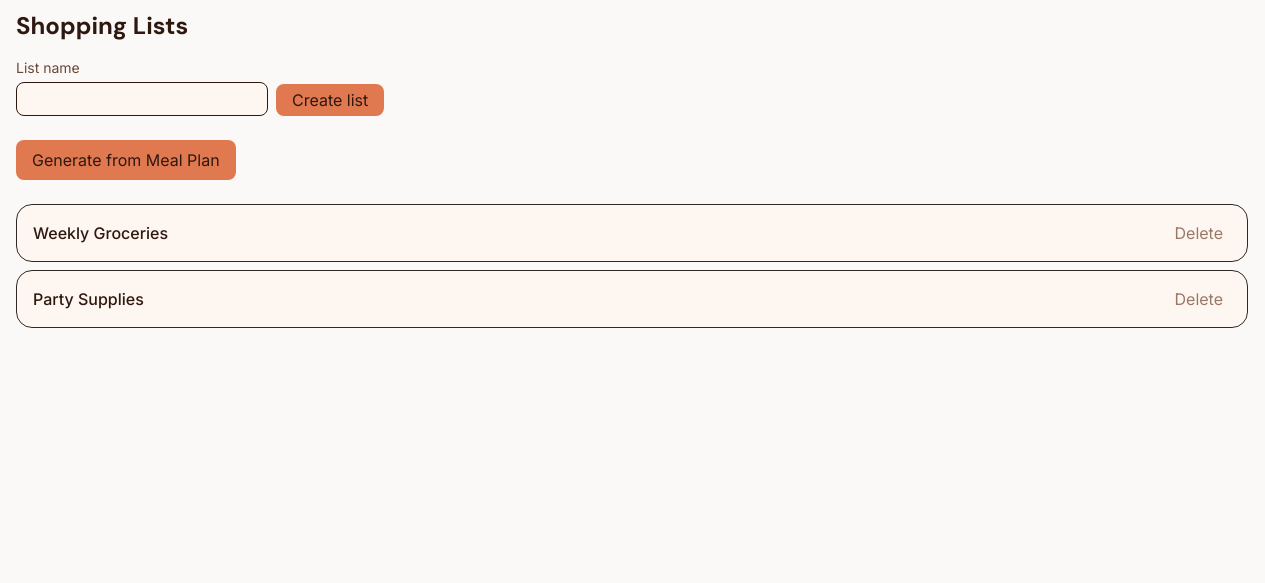
Test: ShoppingListPage › Add Item › should add an item via form and show it in the list
Click the button "Weekly Groceries".
click(101, 233)  # box [33,221,168,245]
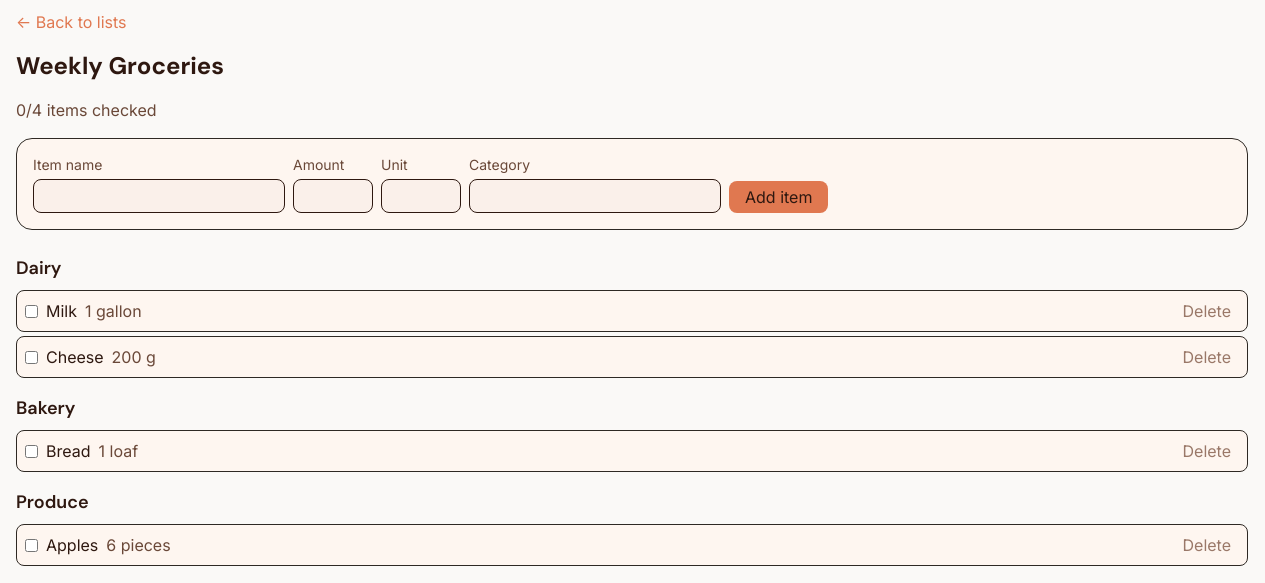
Check: the text "Milk" is shown, box [46,301,77,321]
Note: Fill in the add item form
Type "Eggs" into the field labelled "Item name".
click(159, 196); type("Eggs")  # box [33,179,285,213]
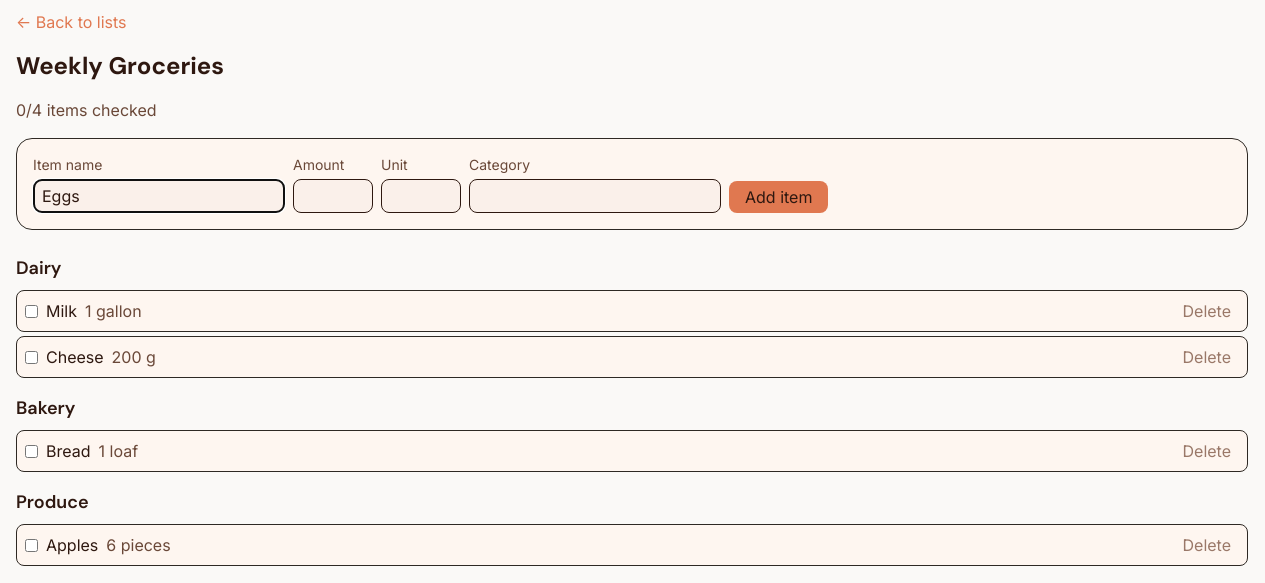
Type "12" into the field labelled "Amount".
click(333, 196); type("12")  # box [293,179,373,213]
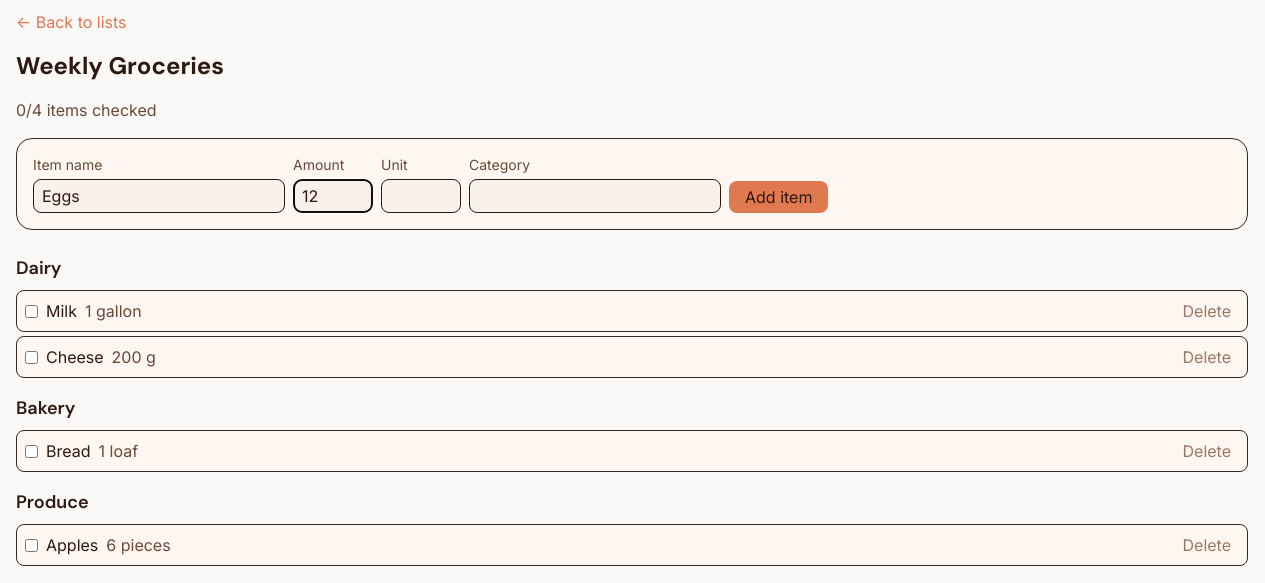
Type "pieces" into the field labelled "Unit".
click(421, 196); type("pieces")  # box [381,179,461,213]
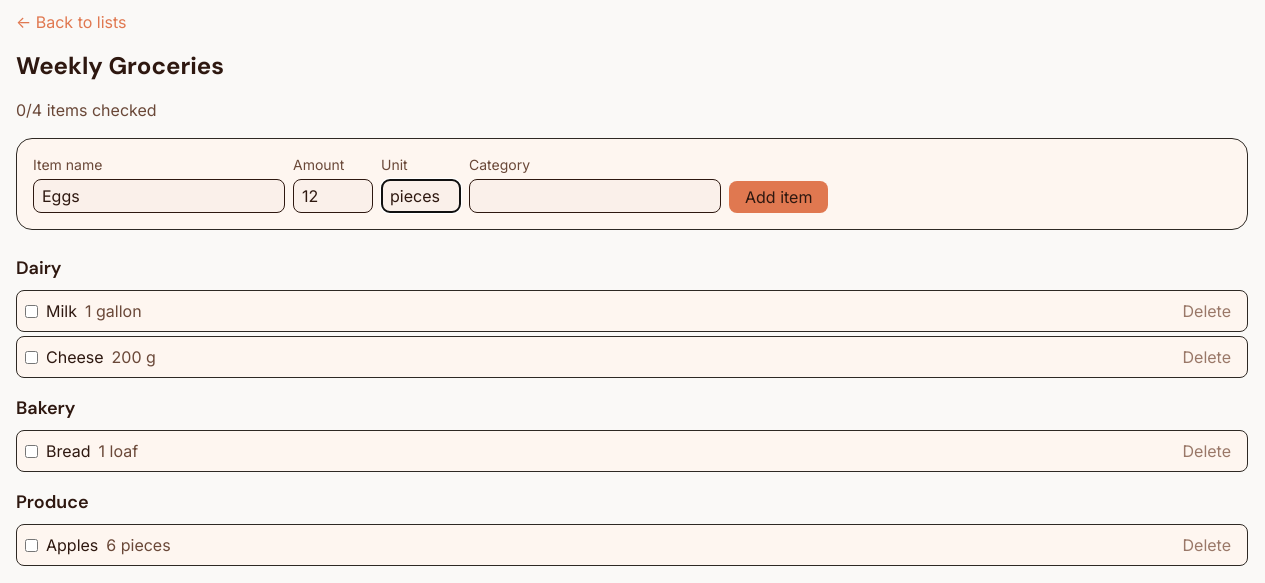
Type "Dairy" into the field labelled "Category".
click(595, 196); type("Dairy")  # box [469,179,721,213]
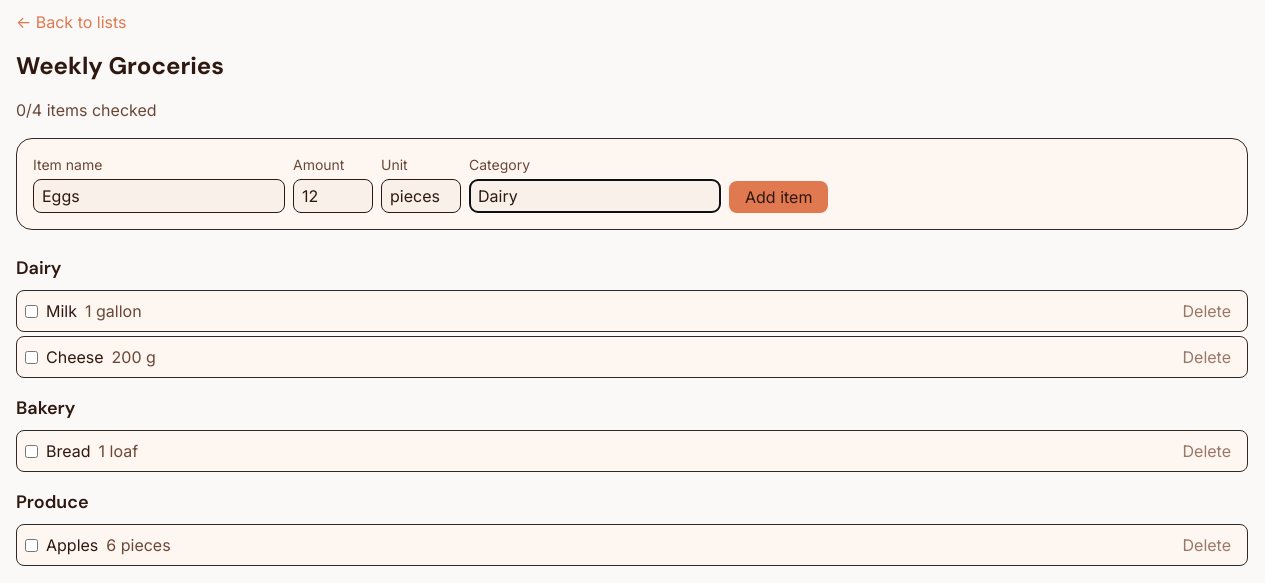
Click the button "Add item".
click(779, 197)  # box [729,181,828,213]
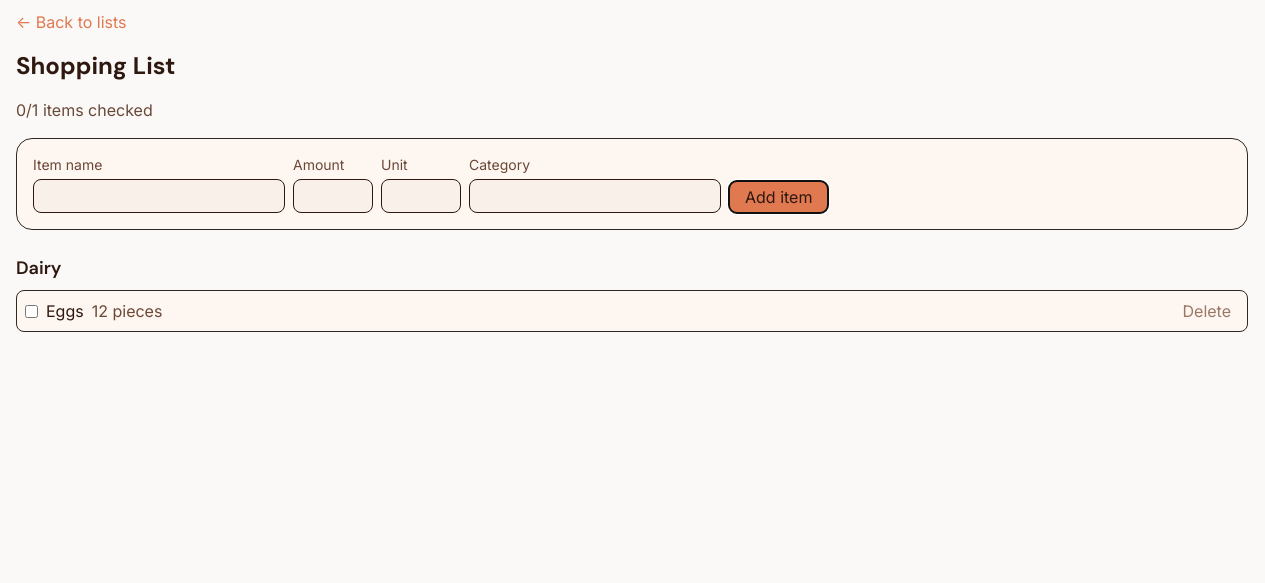
Check: the text "Eggs" is shown, box [46,301,84,321]
